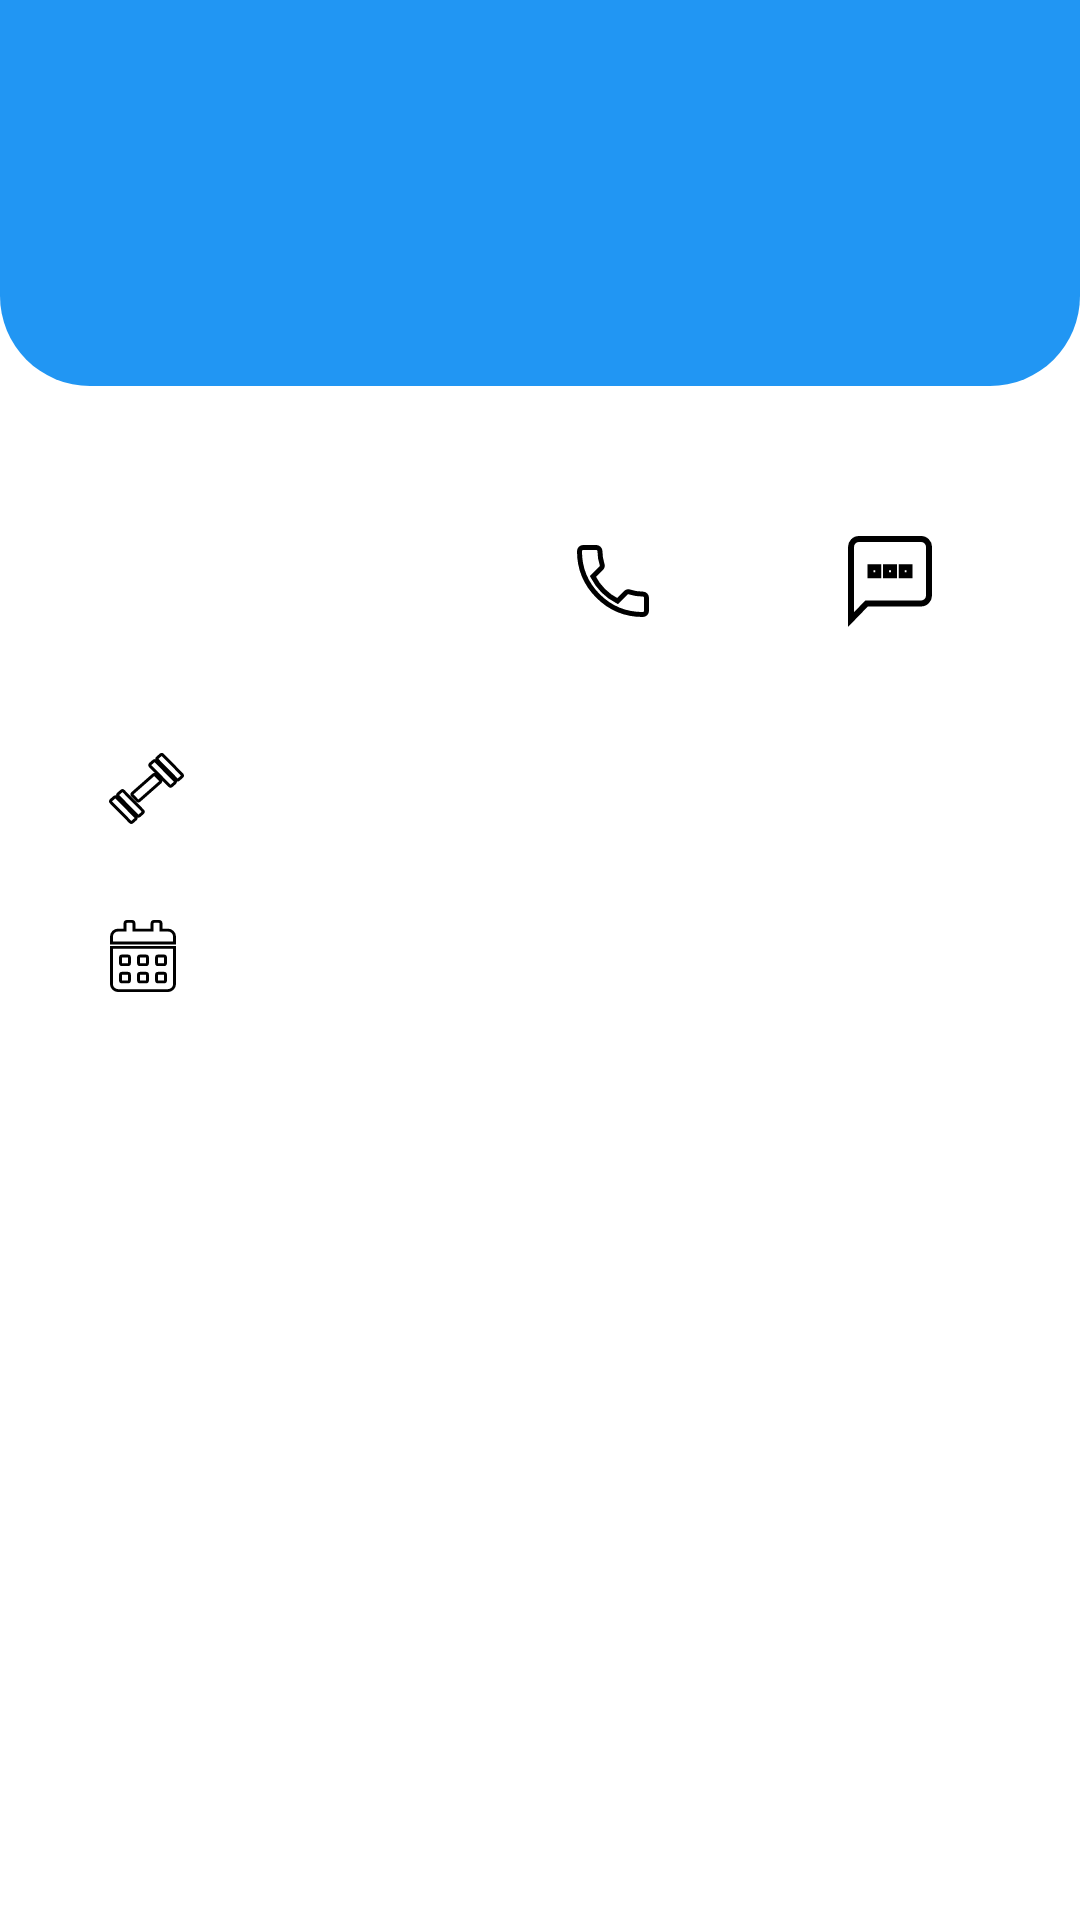

Icon bounding boxes for this 1080px x 1920px phone screenshot, format (x1,y1,x2,y2):
calendar: (110,920,176,992)
phone: (577,545,649,617)
